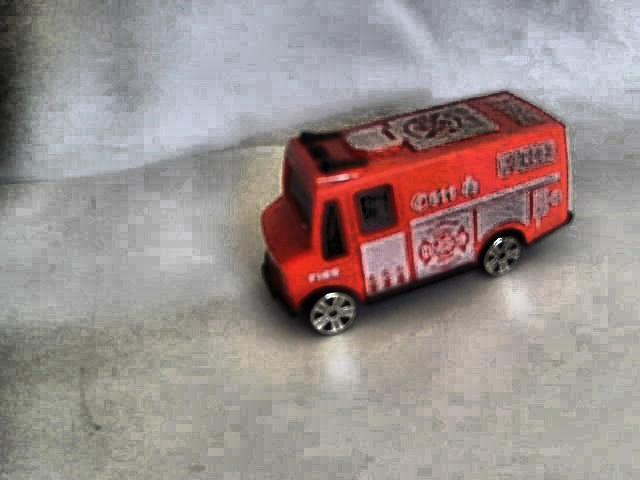fire_truck: (252, 86, 577, 336)
